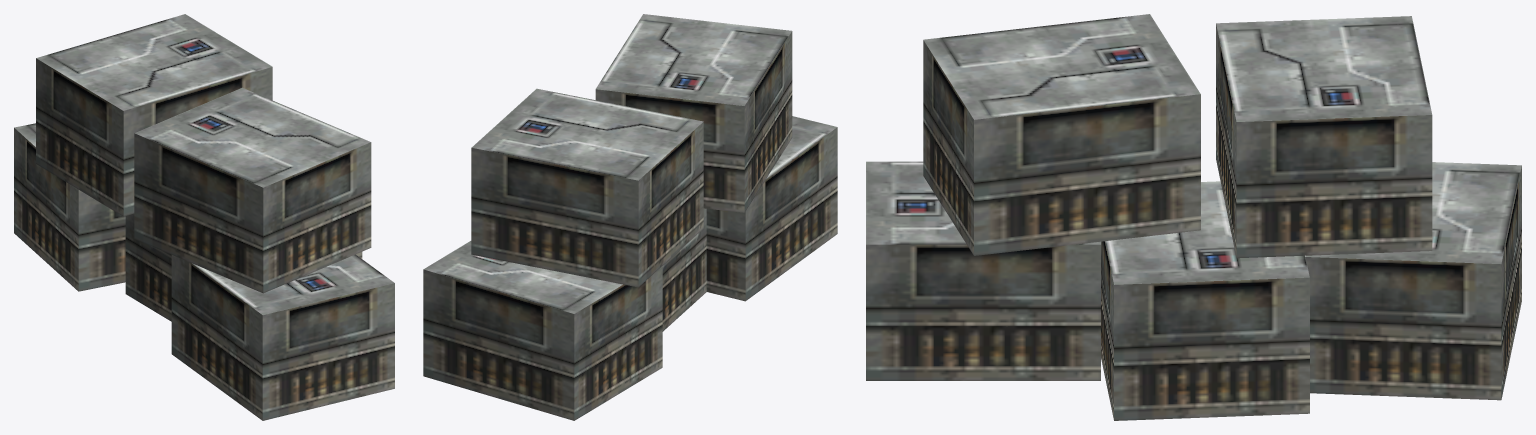
The model's file is eaw_crates5.glb.
3 views of the same model, side by side, from view 1: azimuth 30°, elevation 25°; view 2: azimuth 150°, elevation 25°; view 3: azimuth 270°, elevation 25° (orthographic). The views are drawn at different scales.
Visible parts, largest first — view 1: clusterD_02_0; view 2: clusterD_02_0; view 3: clusterD_02_0.
Boxes of the visible parts, x1,y1,x2,y2 form: clusterD_02_0: [14, 14, 394, 420]; clusterD_02_0: [423, 14, 837, 420]; clusterD_02_0: [866, 14, 1521, 420].
Bounding box in the file's own units: 1.44 × 1.36 × 2.96.
Materials: 1 (1 with a texture image).
